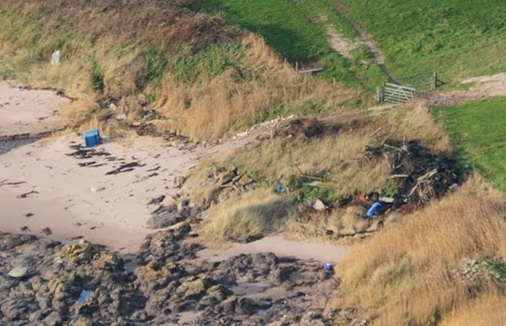together_barrel: (303, 187, 402, 219)
white_in_green: (70, 115, 122, 161), (311, 250, 346, 284), (266, 171, 298, 204)
